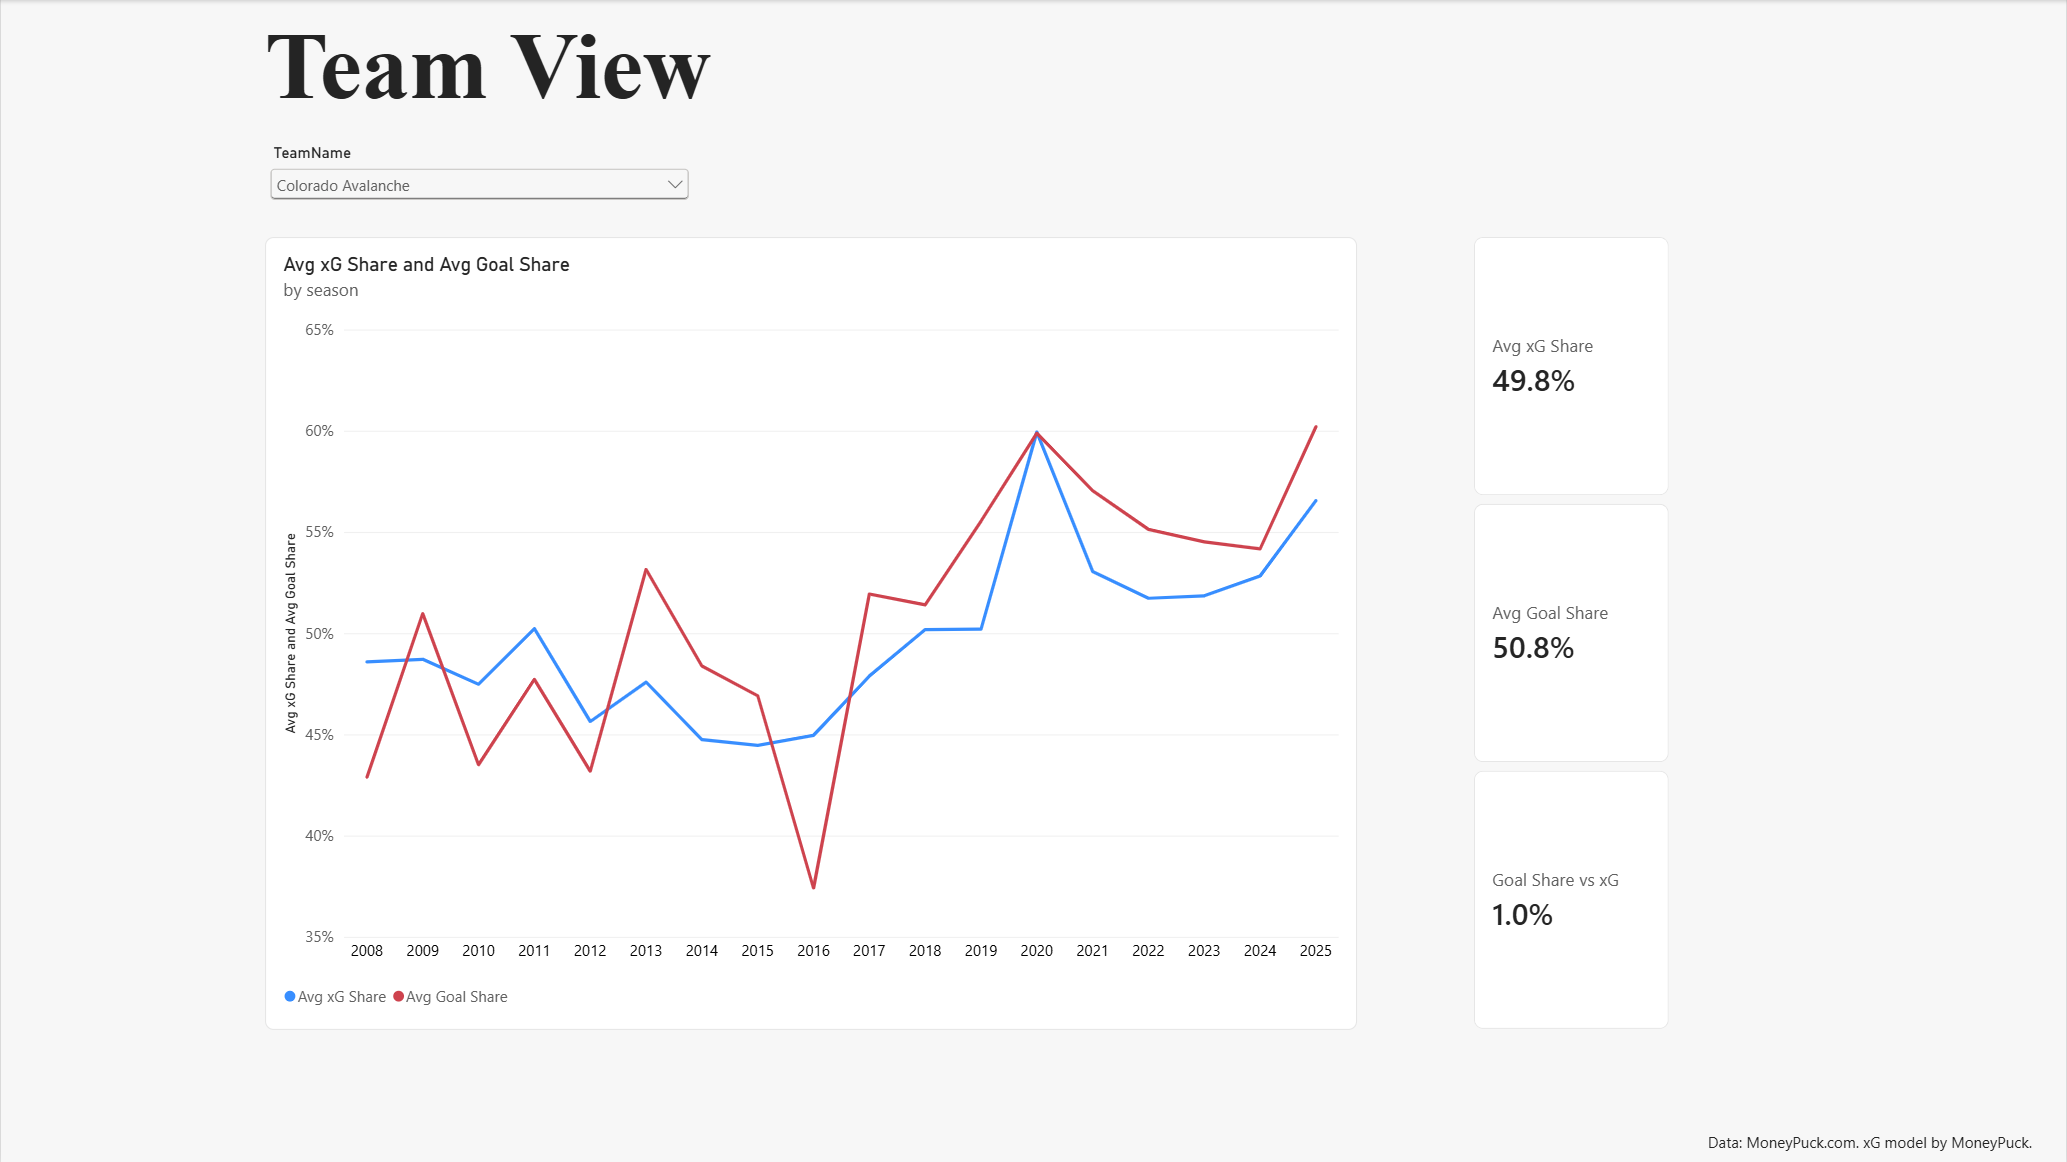

Layout of this report page (visuals, bound fields, positions):
{"tool":"powerbi","page":{"name":"Team View","canvas":[1920,1080],"ordinal":1},"visuals":[{"type":"slicer","fields":{"Values":["Teams.TeamName"]},"box":[245.4,133.5,399.3,130.9],"z":0},{"type":"lineChart","fields":{"Category":["TeamSeasons.season"],"Y":["TeamSeasons.Avg xG Share","TeamSeasons.Avg Goal Share"]},"box":[245.3,220.5,1014.5,737.5],"z":1},{"type":"cardVisual","fields":{"Data":["TeamSeasons.Avg xG Share","TeamSeasons.Avg Goal Share","TeamSeasons.Goal Share vs xG"]},"box":[1369,220.5,181.1,737.5],"z":5},{"type":"textbox","box":[1586.3,1052.3,333.7,27.5],"z":6},{"type":"textbox","box":[245.4,10.8,462.3,108],"z":7}]}

Visuals, with their boxes in screenshot pixels (x1, y1, x2, y2), scaled from the page's 1920x1080 canvas onto the 2067x1162 screenshot:
slicer - Teams.TeamName: (x1=264, y1=144, x2=694, y2=284)
lineChart - TeamSeasons.season x TeamSeasons.Avg xG Share: (x1=264, y1=237, x2=1356, y2=1031)
cardVisual - TeamSeasons.Avg xG Share x TeamSeasons.Avg Goal Share: (x1=1474, y1=237, x2=1669, y2=1031)
textbox: (x1=1708, y1=1132, x2=2066, y2=1161)
textbox: (x1=264, y1=12, x2=762, y2=128)
